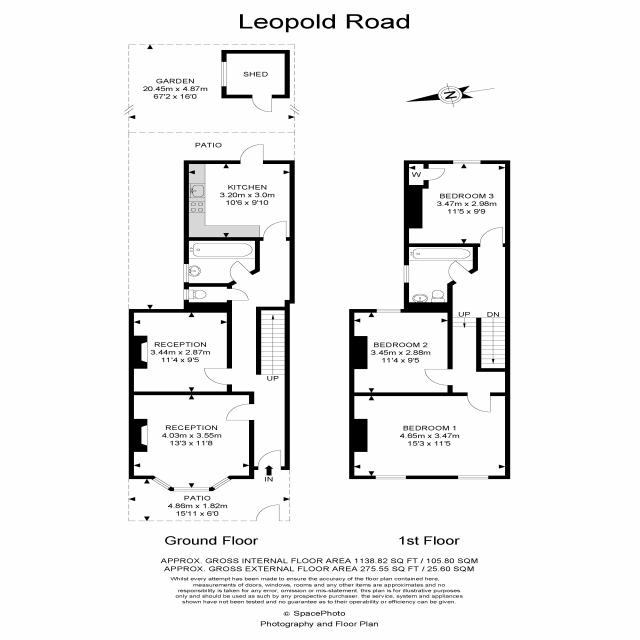DOOR: (229, 260, 254, 284), (448, 260, 472, 283), (225, 403, 255, 421), (424, 368, 453, 386), (467, 392, 491, 413), (479, 227, 504, 247), (257, 450, 282, 470), (239, 144, 264, 164), (262, 221, 287, 241), (204, 368, 232, 385), (227, 288, 249, 301)
ROOM: (349, 392, 510, 479), (128, 391, 255, 492), (184, 144, 295, 241), (349, 302, 453, 396), (128, 302, 232, 395), (403, 160, 511, 247)
WINDOW: (152, 477, 172, 490), (211, 477, 231, 490), (173, 487, 210, 491), (375, 475, 407, 479), (457, 475, 489, 479), (183, 264, 189, 283), (453, 160, 481, 164), (376, 309, 401, 313), (404, 265, 409, 283), (184, 289, 189, 300)
